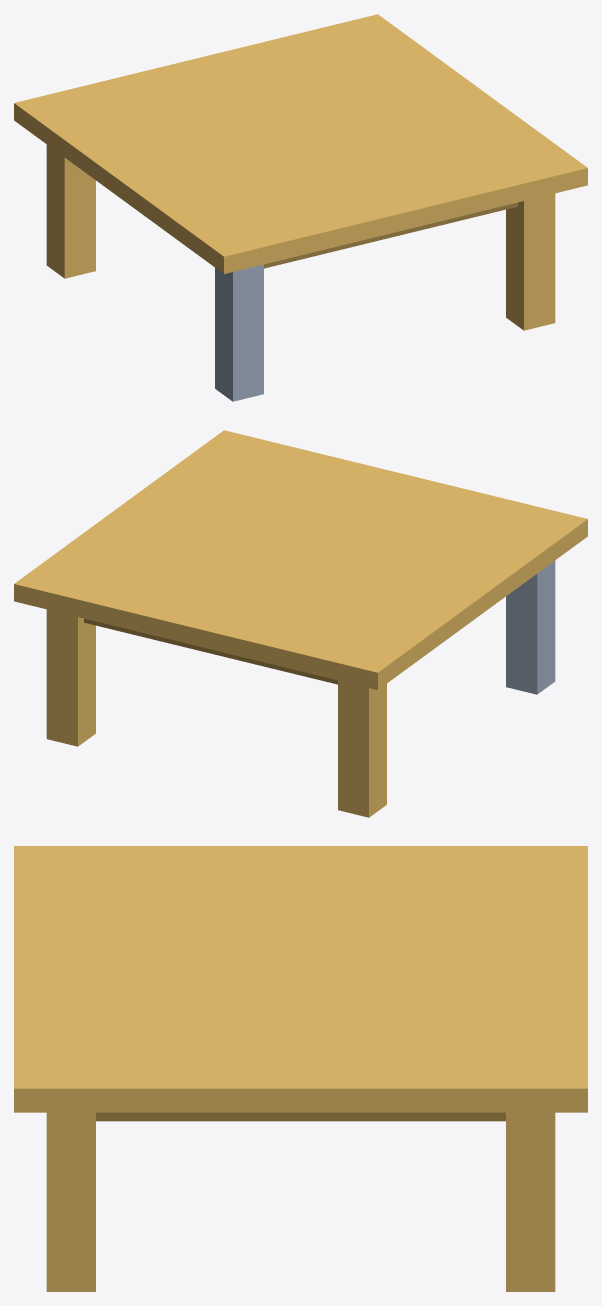
File: table1.gltf
The picture shows the model from 3 angles, top to bottom: view 1: azimuth 30°, elevation 25°; view 2: azimuth 150°, elevation 25°; view 3: azimuth 270°, elevation 25°; orthographic projection. The views are drawn at different scales.
Parts seen in each view (by area): view 1: 067f12b3-a8ef-98da-e41d-218f06c70cf1, 3866af63-d490-95d8-df0c-7101e5e78cd8, f26e9af2-3248-d6ee-6528-58ae6aca1047, a48a5ba8-7128-08e0-b790-fe022ebdde12, 4d6657ec-ab43-24b7-1eb3-8bcd6fa4c36e; view 2: 067f12b3-a8ef-98da-e41d-218f06c70cf1, 17fd0384-16f2-866a-d168-17f18c01e238, a48a5ba8-7128-08e0-b790-fe022ebdde12, f26e9af2-3248-d6ee-6528-58ae6aca1047, 4d6657ec-ab43-24b7-1eb3-8bcd6fa4c36e; view 3: 067f12b3-a8ef-98da-e41d-218f06c70cf1, 3866af63-d490-95d8-df0c-7101e5e78cd8, 17fd0384-16f2-866a-d168-17f18c01e238, 4d6657ec-ab43-24b7-1eb3-8bcd6fa4c36e.
Part boxes in pixels (x1,y1,x2,y2): 067f12b3-a8ef-98da-e41d-218f06c70cf1: (14,14,587,273); 3866af63-d490-95d8-df0c-7101e5e78cd8: (506,193,555,330); f26e9af2-3248-d6ee-6528-58ae6aca1047: (215,264,263,401); a48a5ba8-7128-08e0-b790-fe022ebdde12: (46,144,95,278); 4d6657ec-ab43-24b7-1eb3-8bcd6fa4c36e: (264,202,517,268); 067f12b3-a8ef-98da-e41d-218f06c70cf1: (14,430,587,689); 17fd0384-16f2-866a-d168-17f18c01e238: (46,609,95,746); a48a5ba8-7128-08e0-b790-fe022ebdde12: (338,680,386,817); f26e9af2-3248-d6ee-6528-58ae6aca1047: (506,560,555,694); 4d6657ec-ab43-24b7-1eb3-8bcd6fa4c36e: (84,618,337,684); 067f12b3-a8ef-98da-e41d-218f06c70cf1: (14,846,587,1112); 3866af63-d490-95d8-df0c-7101e5e78cd8: (46,1112,95,1291); 17fd0384-16f2-866a-d168-17f18c01e238: (506,1112,555,1291); 4d6657ec-ab43-24b7-1eb3-8bcd6fa4c36e: (96,1112,505,1121).
Size of the model in its own units: 2.19 by 0.9125 by 2.19.
Materials: 3 (3 with a texture image).
